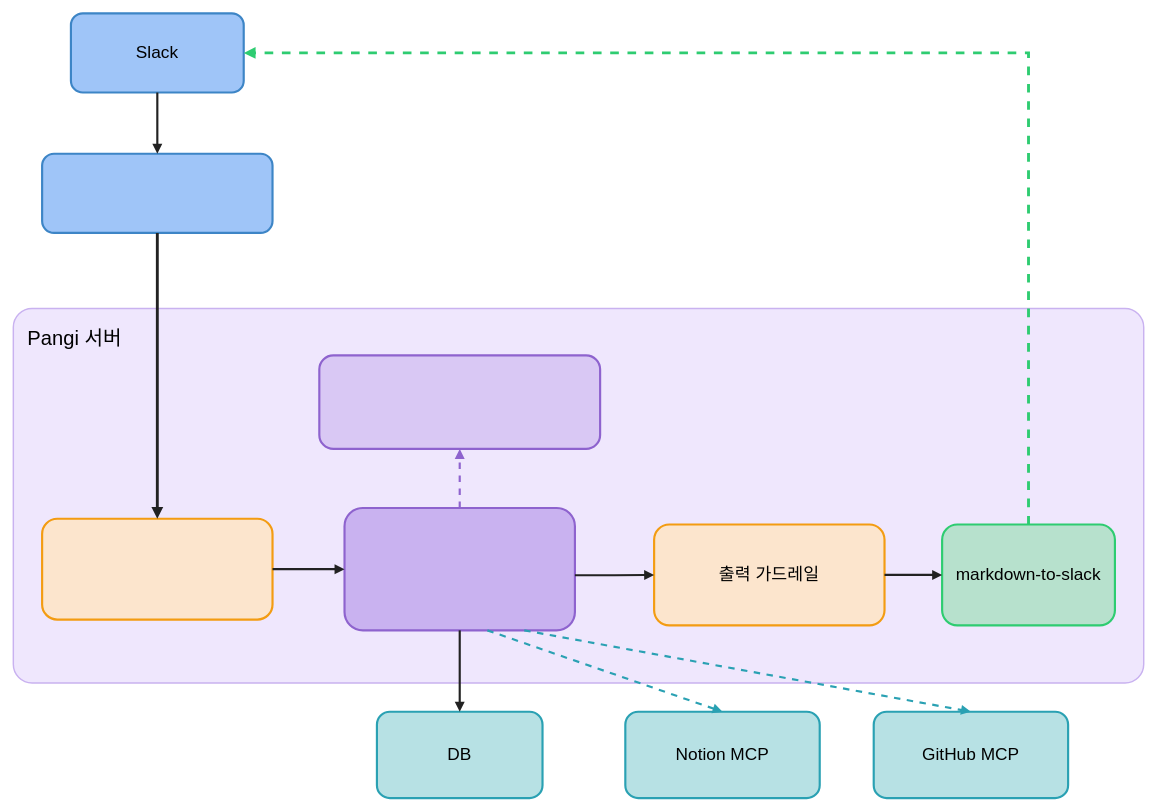
This 1156x811 diagram has some shape labels left out. Each missing label, with the centre of its shape:
"Context Providers Notion Context · GitHub Context Repo Catalog" belongs at pixel 459 402.
"Worker / Scheduler" belongs at pixel 157 193.
"입력 가드레일" belongs at pixel 157 568.
"하네스 오케스트레이터" belongs at pixel 459 569.
